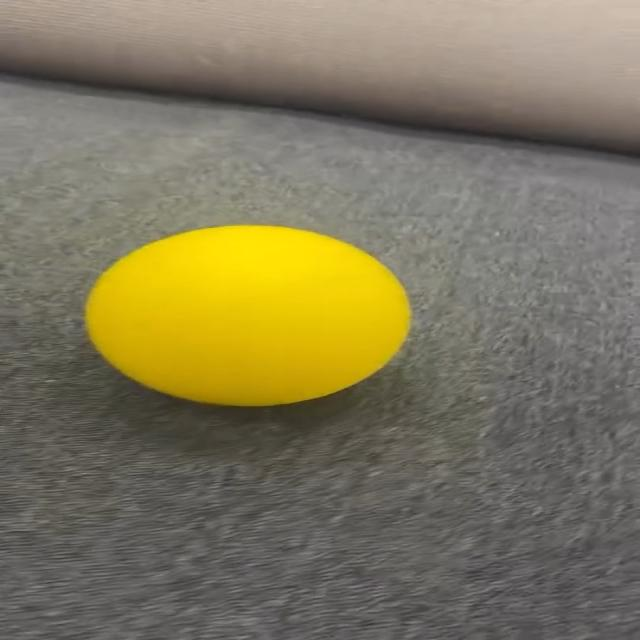Fuels: (88, 226, 408, 404)
